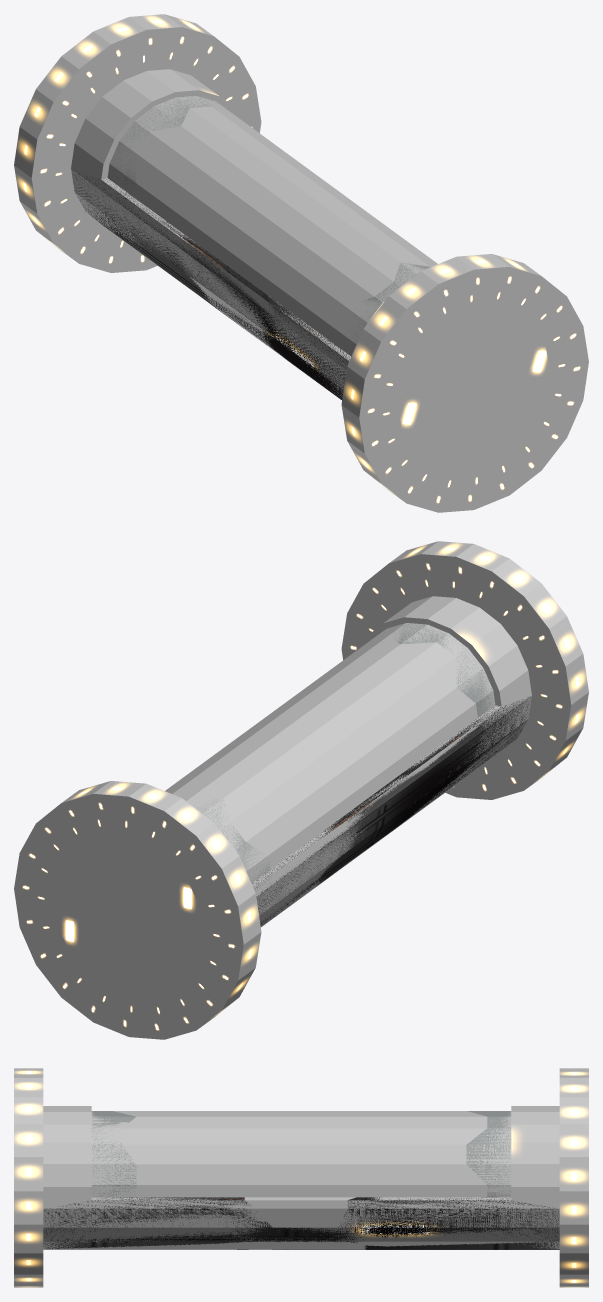
Rendered from Station_piece 1.fbx.
3 views of the same model, one above another, from view 1: azimuth 30°, elevation 25°; view 2: azimuth 150°, elevation 25°; view 3: azimuth 270°, elevation 25° (orthographic). The views are drawn at different scales.
Visible parts, largest first — view 1: Station_piece 1_1, Station Glass, Station_piece 1_2, Station Glass_2; view 2: Station_piece 1_1, Station Glass, Station_piece 1_2, Station Glass_2; view 3: Station_piece 1_1, Station Glass, Station_piece 1_2, Station Glass_2.
Boxes of the visible parts, <box> form: Station_piece 1_1: <box>14,14,588,512</box>; Station Glass: <box>107,96,437,356</box>; Station_piece 1_2: <box>72,169,351,399</box>; Station Glass_2: <box>108,96,430,354</box>; Station_piece 1_1: <box>14,541,588,1039</box>; Station Glass: <box>165,623,495,882</box>; Station_piece 1_2: <box>252,696,530,924</box>; Station Glass_2: <box>197,623,494,883</box>; Station_piece 1_1: <box>14,1068,588,1287</box>; Station Glass: <box>91,1111,511,1197</box>; Station_piece 1_2: <box>43,1197,559,1249</box>; Station Glass_2: <box>91,1111,511,1197</box>.
Size of the model in its own units: 5.72 by 2.2 by 2.2.
